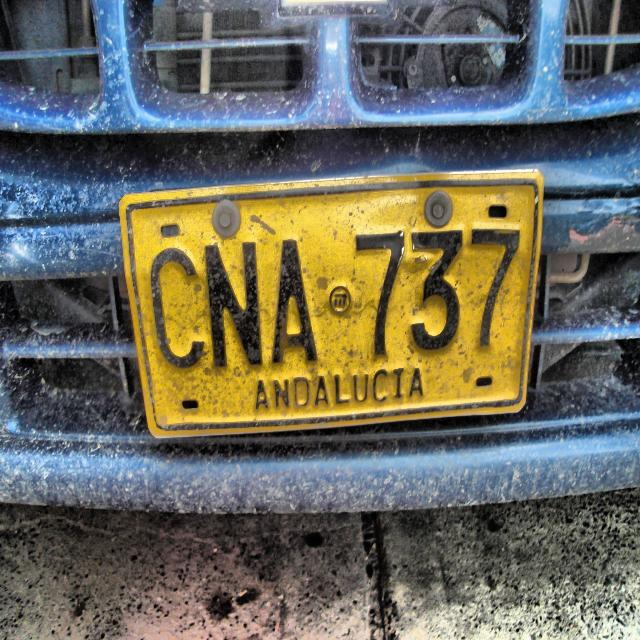plate: (123, 180, 540, 433)
